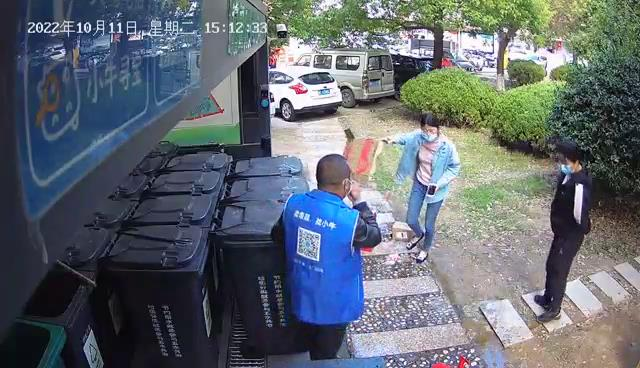person: (534, 138, 595, 323)
worker: (271, 154, 383, 361), (383, 112, 461, 263)
zhizhipin: (341, 126, 384, 182), (391, 220, 414, 242)
